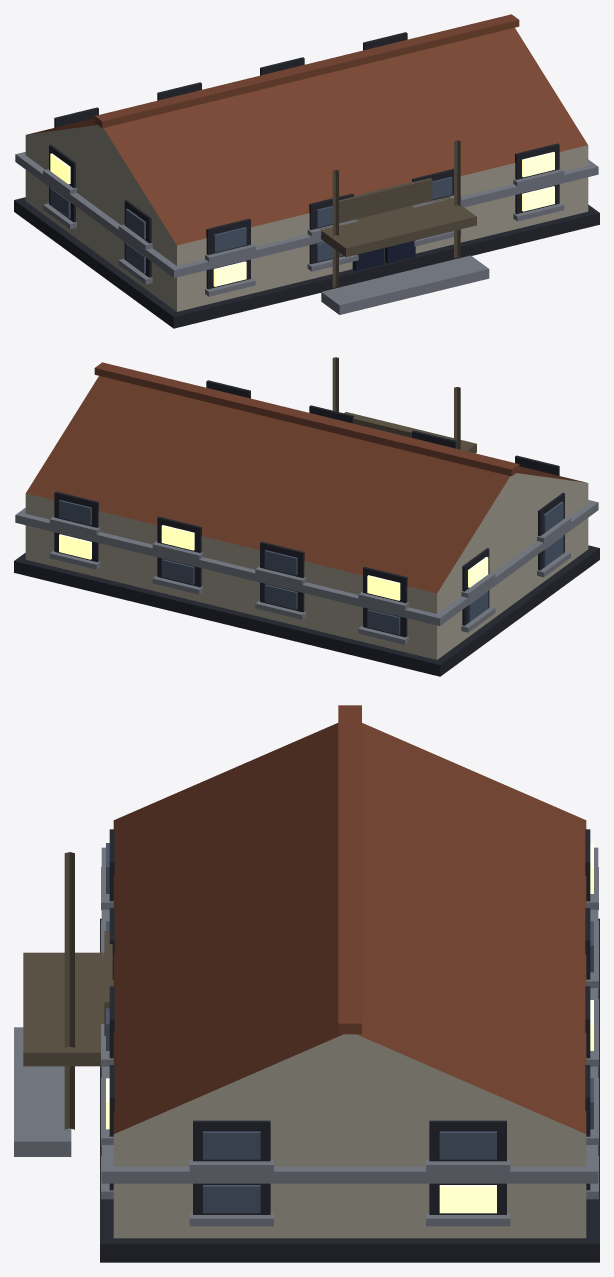
File: guest-high.glb
3 views of the same model, one above another, from view 1: azimuth 30°, elevation 25°; view 2: azimuth 150°, elevation 25°; view 3: azimuth 270°, elevation 25° (orthographic). The views are drawn at different scales.
Size of the model in its own units: 45.6 by 15.37 by 34.7.
